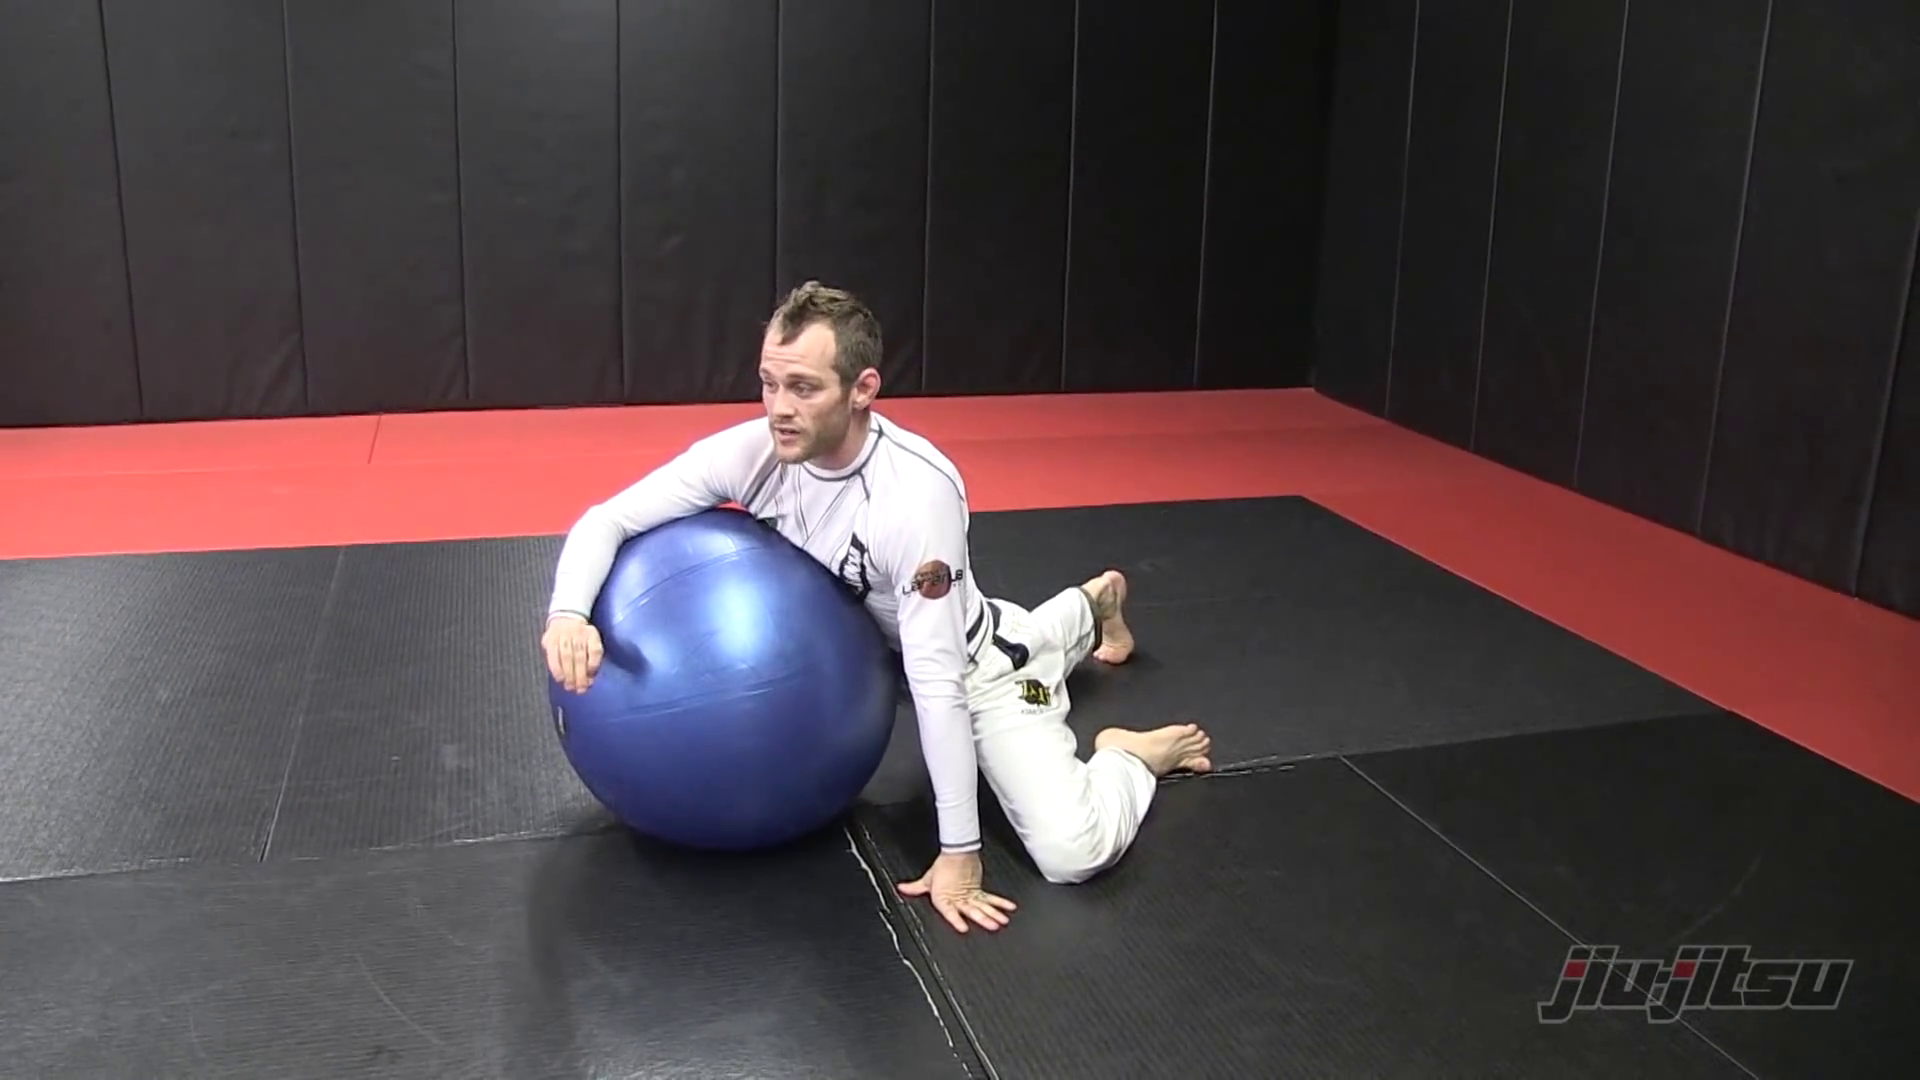yogaball: (530, 495, 911, 862)
